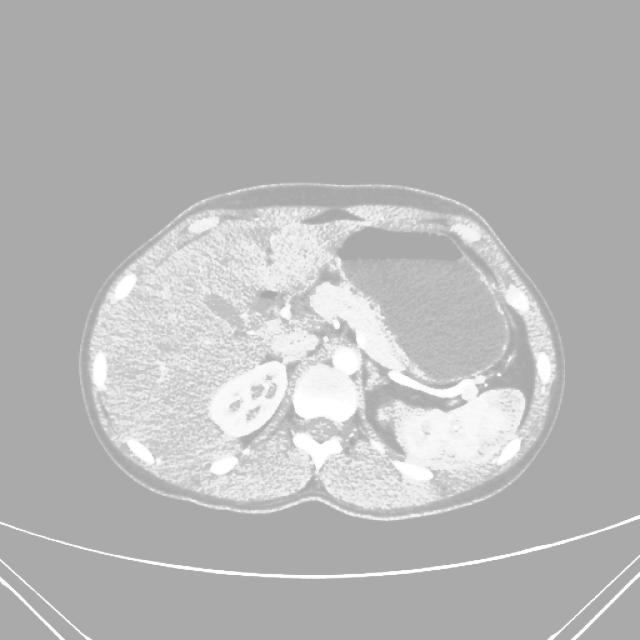NORMAL: (50, 162, 574, 535)
